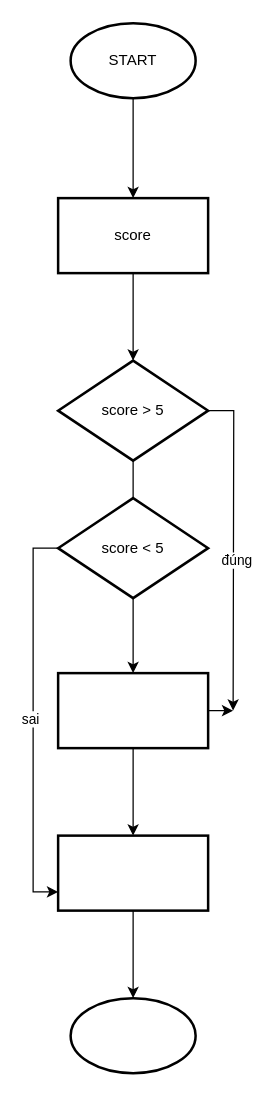
This 274x1095 diagram has some shape labels left out. Each missing label, with the centre of its shape:
"ko đạt" goes at (x=132, y=872).
"đạt" goes at (x=132, y=710).
